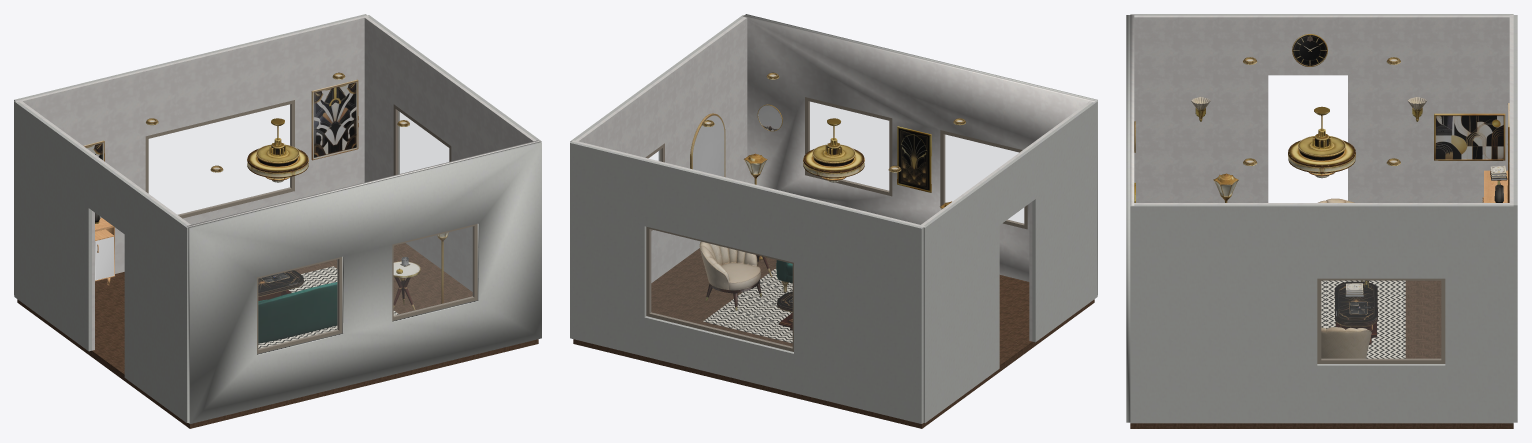
The model's file is scene_web.glb.
The picture shows the model from 3 angles, left to right: view 1: azimuth 30°, elevation 25°; view 2: azimuth 150°, elevation 25°; view 3: azimuth 270°, elevation 25°; orthographic projection. The views are drawn at different scales.
Parts seen in each view (by area): view 1: geometry_0.003, geometry_0.007, geometry_0, geometry_0.004, glass, Mesh_0, glass.002, glass.001, geometry_0.008, geometry_0.018, glass.003, geometry_0.027 (+12 smaller); view 2: geometry_0.001, geometry_0.002, geometry_0.007, geometry_0.004, glass, Mesh_0, glass.002, Mesh_0.001, glass.001, geometry_0.010, geometry_0.024, geometry_0.027 (+9 smaller); view 3: geometry_0.005, geometry_0.006, glass.003, Mesh_0, geometry_0.023, Mesh_0.001, geometry_0.027, geometry_0.001, geometry_0.003, frame.003, geometry_0.009, geometry_0.010 (+7 smaller).
Part boxes in pixels (x1,y1,x2,y2): geometry_0.003: [188, 141, 541, 423]; geometry_0.007: [14, 101, 188, 422]; geometry_0: [16, 15, 368, 273]; geometry_0.004: [364, 17, 536, 291]; glass: [149, 104, 290, 214]; Mesh_0: [17, 243, 538, 428]; glass.002: [394, 227, 473, 315]; glass.001: [258, 260, 337, 348]; geometry_0.008: [258, 282, 337, 343]; geometry_0.018: [311, 79, 358, 160]; glass.003: [397, 110, 448, 173]; geometry_0.027: [247, 118, 308, 182]; geometry_0.001: [570, 141, 923, 423]; geometry_0.002: [743, 15, 1095, 281]; geometry_0.007: [923, 101, 1097, 422]; geometry_0.004: [575, 17, 747, 282]; glass: [650, 230, 792, 347]; Mesh_0: [573, 248, 1094, 428]; glass.002: [809, 101, 888, 191]; Mesh_0.001: [703, 269, 792, 343]; glass.001: [944, 135, 1023, 223]; geometry_0.010: [699, 241, 761, 310]; geometry_0.024: [897, 126, 931, 192]; geometry_0.027: [803, 118, 864, 182]; geometry_0.005: [1130, 204, 1513, 423]; geometry_0.006: [1134, 15, 1509, 202]; glass.003: [1321, 281, 1440, 358]; Mesh_0: [1130, 280, 1513, 428]; geometry_0.023: [1434, 113, 1505, 160]; Mesh_0.001: [1321, 280, 1405, 358]; geometry_0.027: [1288, 106, 1355, 178]; geometry_0.001: [1513, 15, 1517, 422]; geometry_0.003: [1126, 15, 1130, 422]; frame.003: [1317, 278, 1445, 363]; geometry_0.009: [1334, 281, 1377, 344]; geometry_0.010: [1321, 327, 1371, 358].
Bounding box in the file's own units: 5.7 × 3.1 × 4.9.
36 materials, 31 textured.
